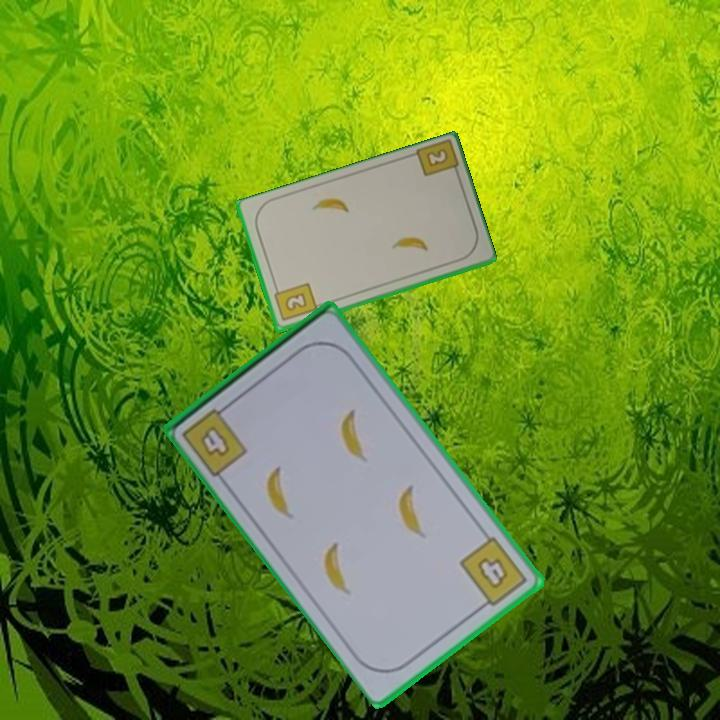2b: (411, 138, 463, 182), (270, 279, 319, 324)
4b: (456, 532, 531, 613), (178, 399, 251, 479)
